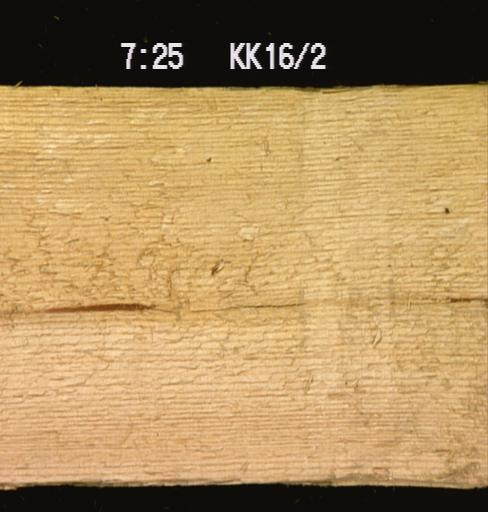split: (181, 284, 303, 325)
